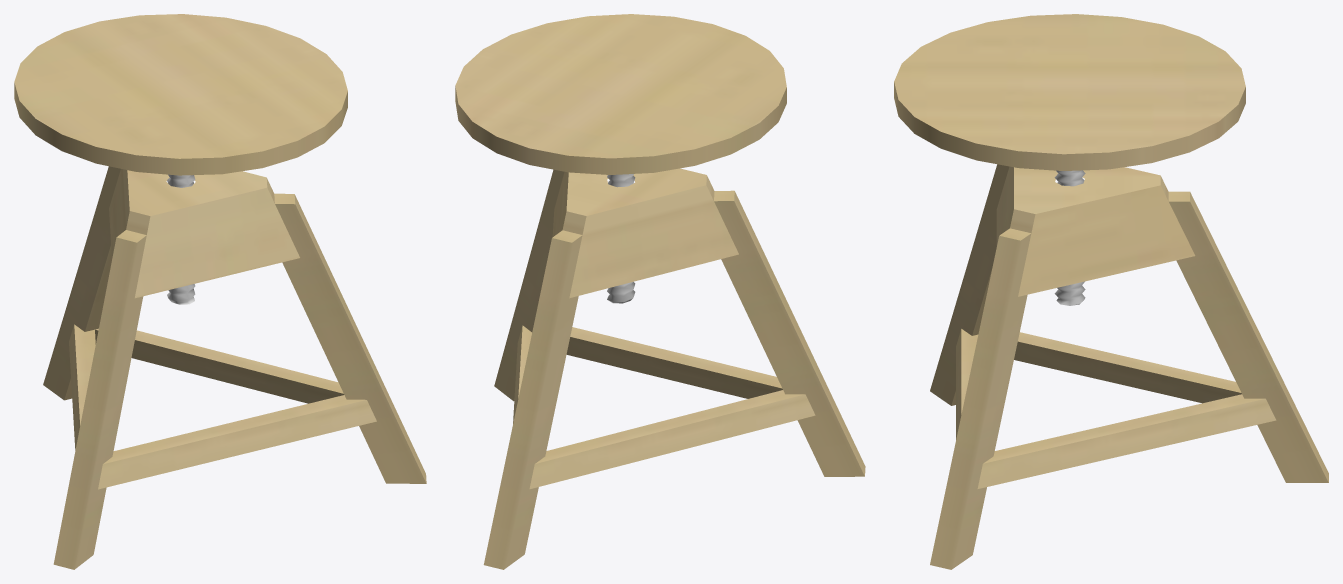
File: sh-contrib-bar-stool-alax.glb
3 views of the same model, side by side, from view 1: azimuth 30°, elevation 25°; view 2: azimuth 150°, elevation 25°; view 3: azimuth 270°, elevation 25° (orthographic).
Visible parts, largest first — view 1: base_1, sweethome3d_rail_1_2; view 2: base_1, sweethome3d_rail_1_2; view 3: base_1, sweethome3d_rail_1_2.
Part boxes in pixels (bbox=[...]): base_1: bbox=[14, 14, 426, 569]; sweethome3d_rail_1_2: bbox=[167, 174, 195, 304]; base_1: bbox=[455, 14, 865, 569]; sweethome3d_rail_1_2: bbox=[607, 174, 635, 303]; base_1: bbox=[894, 14, 1328, 569]; sweethome3d_rail_1_2: bbox=[1054, 170, 1085, 305].
Size of the model in its own units: 1 by 1 by 1.
Materials: 2 (1 with a texture image).
